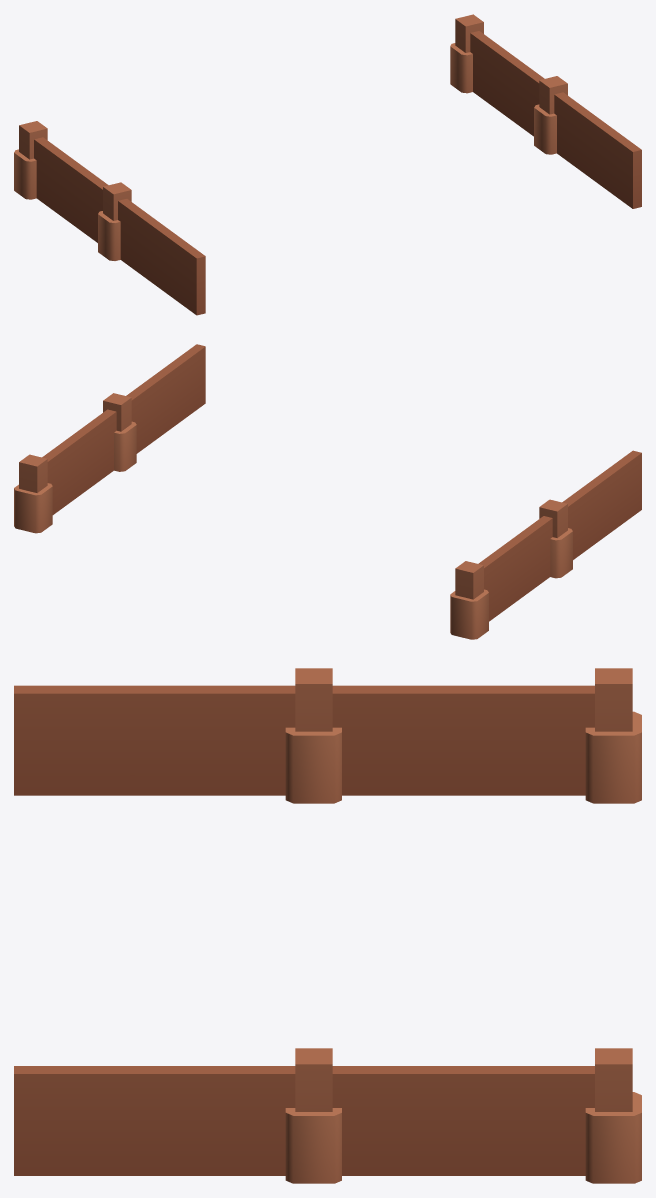
File: fence-low.glb
3 renders of one model, top to bottom at view 1: azimuth 30°, elevation 25°; view 2: azimuth 150°, elevation 25°; view 3: azimuth 270°, elevation 25°, orthographic. The views are drawn at different scales.
Parts seen in each view (by area): view 1: fence-low; view 2: fence-low; view 3: fence-low.
Boxes of the visible parts, box(x1,y1,x2,y2) form: fence-low: box(14, 14, 641, 315); fence-low: box(14, 344, 641, 639); fence-low: box(14, 668, 641, 1183).
Size of the model in its own units: 1.28 by 0.17 by 0.8375.
